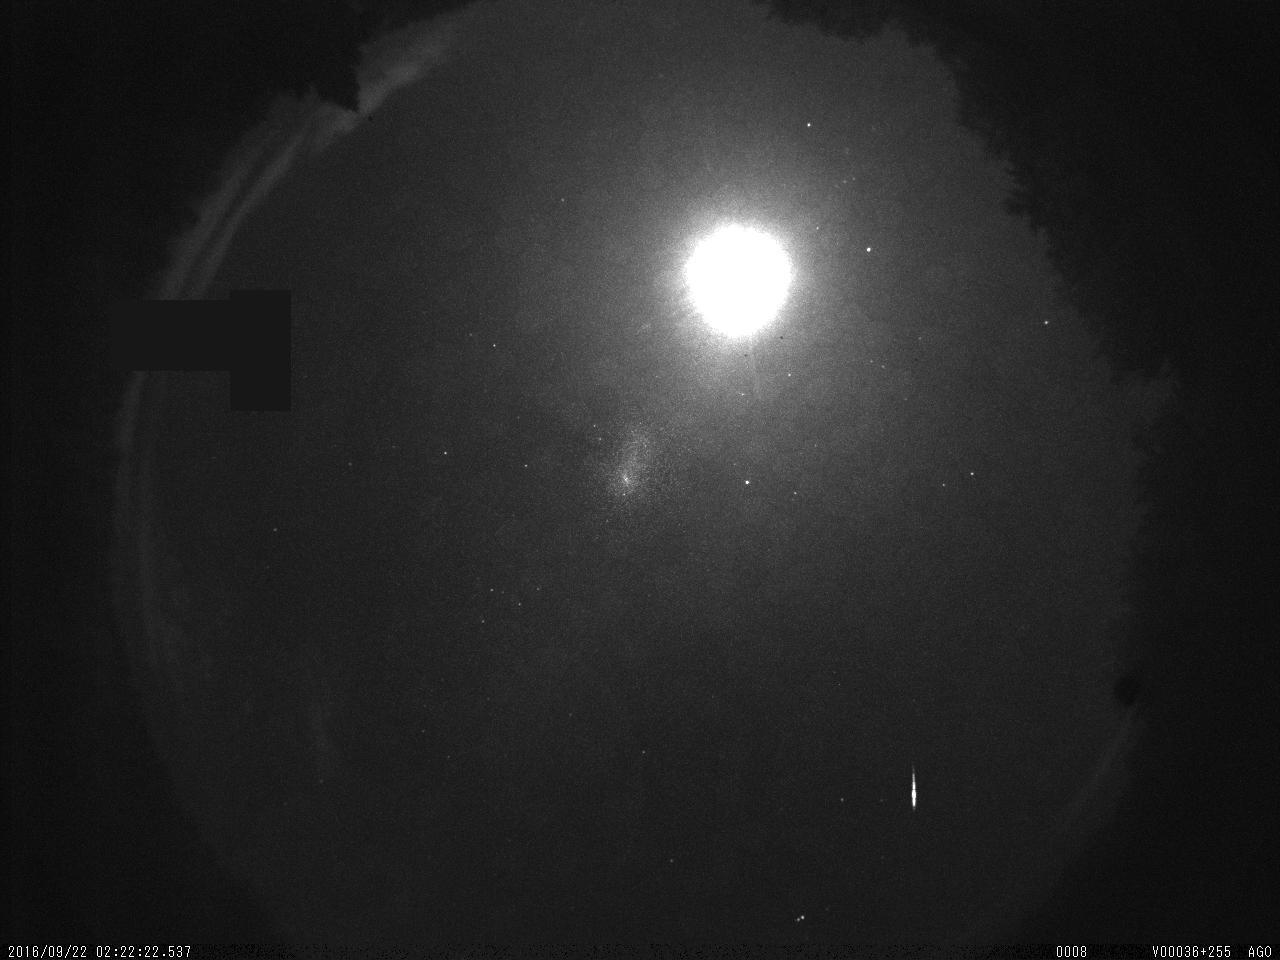meteor: (890, 759, 935, 815)
